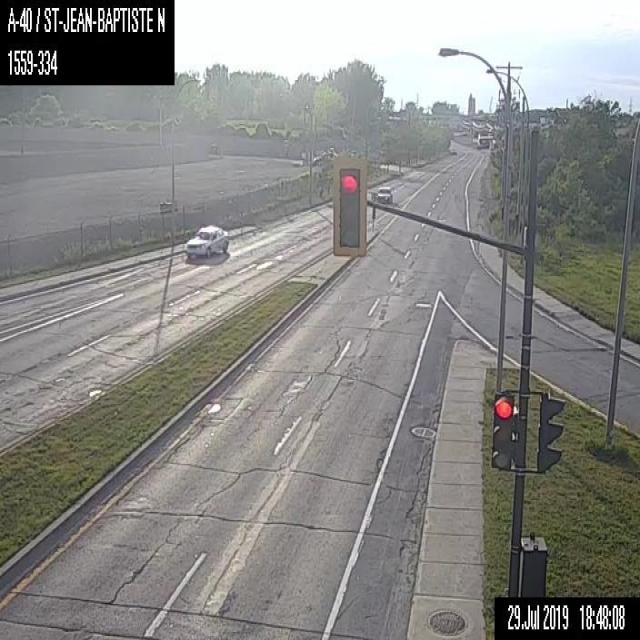vehicle: (186, 224, 228, 257), (376, 184, 392, 203)
